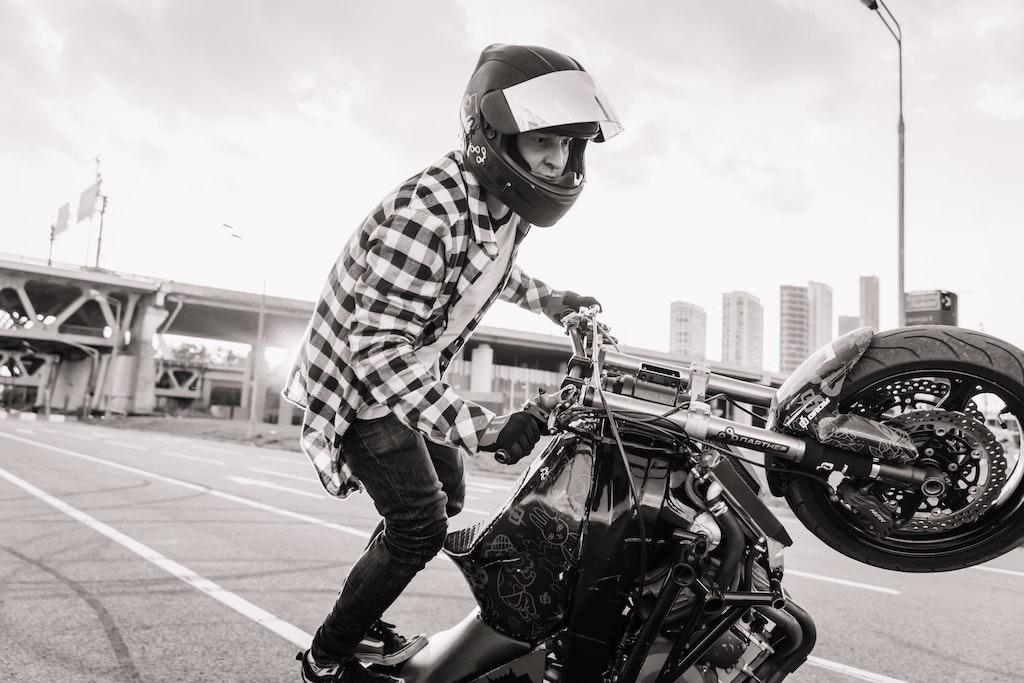helmet: (457, 42, 626, 229)
